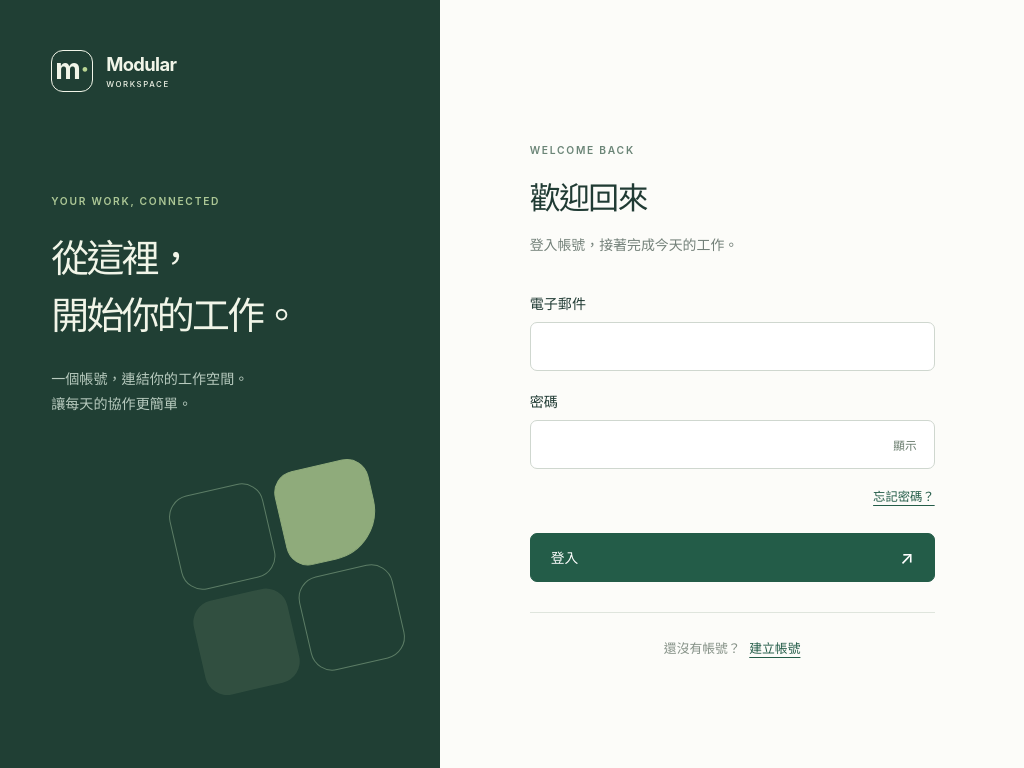
Test: allows a user to log in and view their current tenant
In the field labelled "電子郵件": (732, 346) [530,322,935,371], type "lin@example.com"
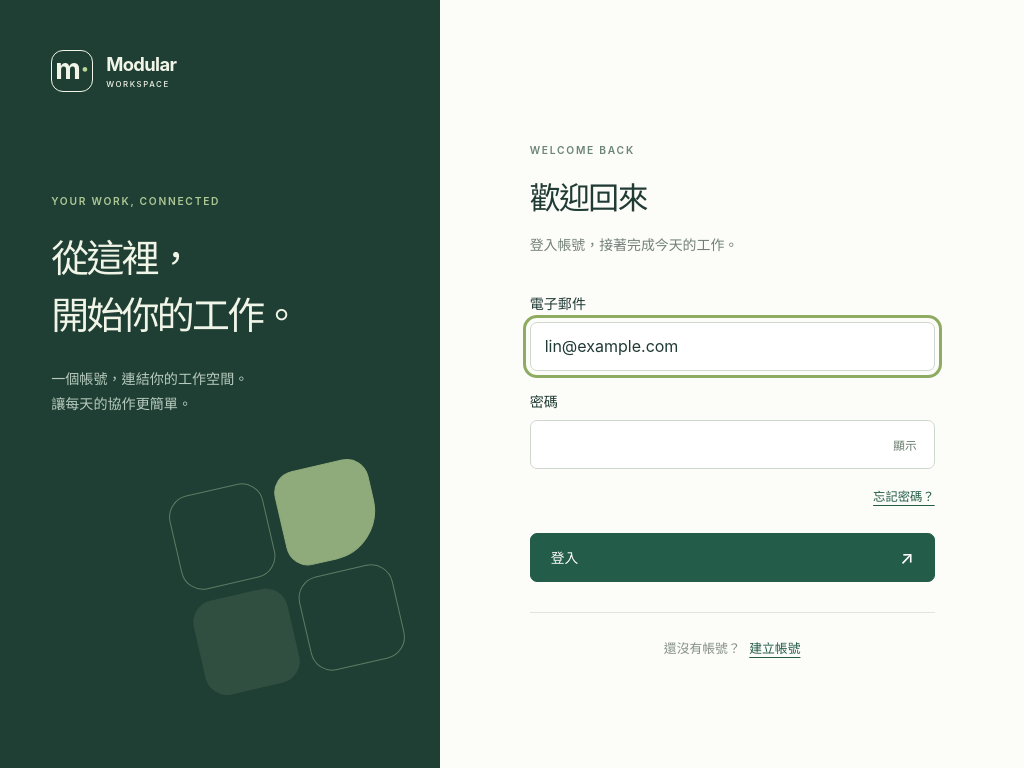
In the password field labelled "密碼": (732, 444) [530,420,935,469], type "a long enough password"
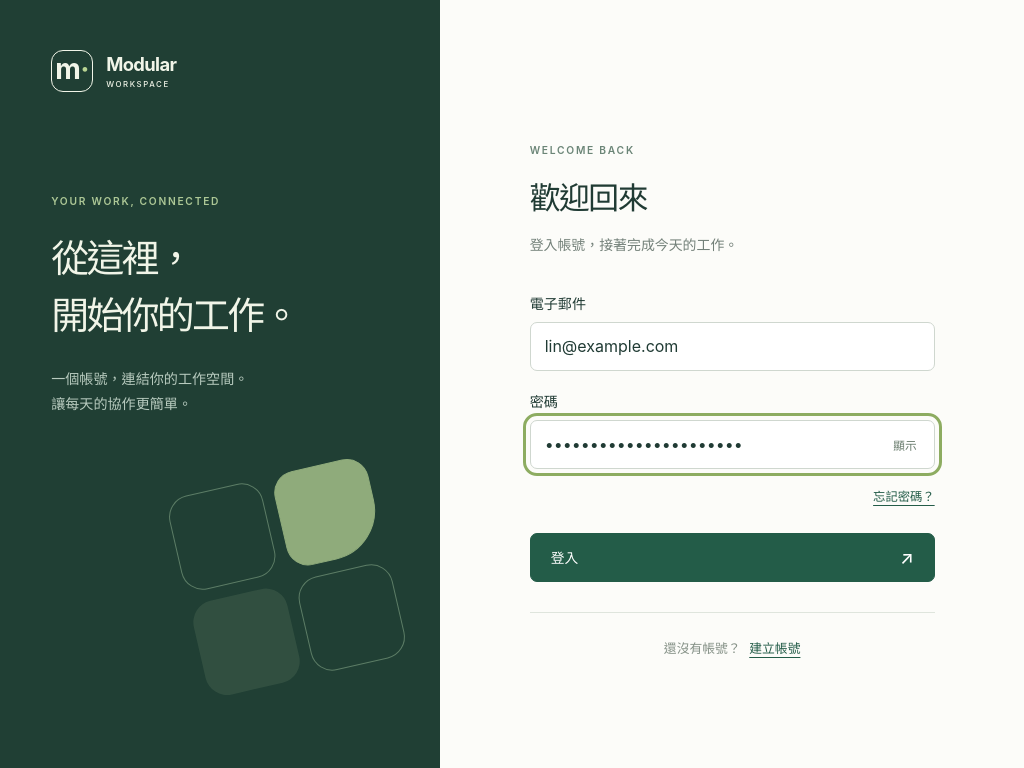
Click the button "登入 ↗": (564, 558) [530,533,935,582]
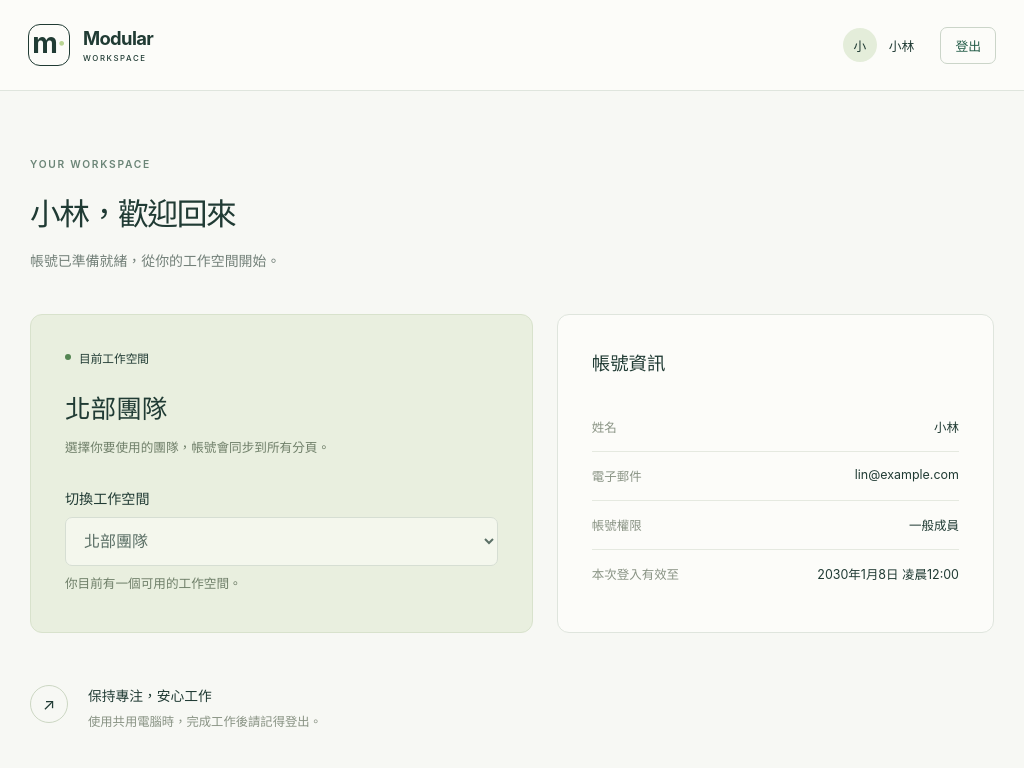
Check: the heading "小林，歡迎回來" is shown, box [30,195,235,232]
Check: the text "北部團隊" is shown, box [65,393,167,424]
